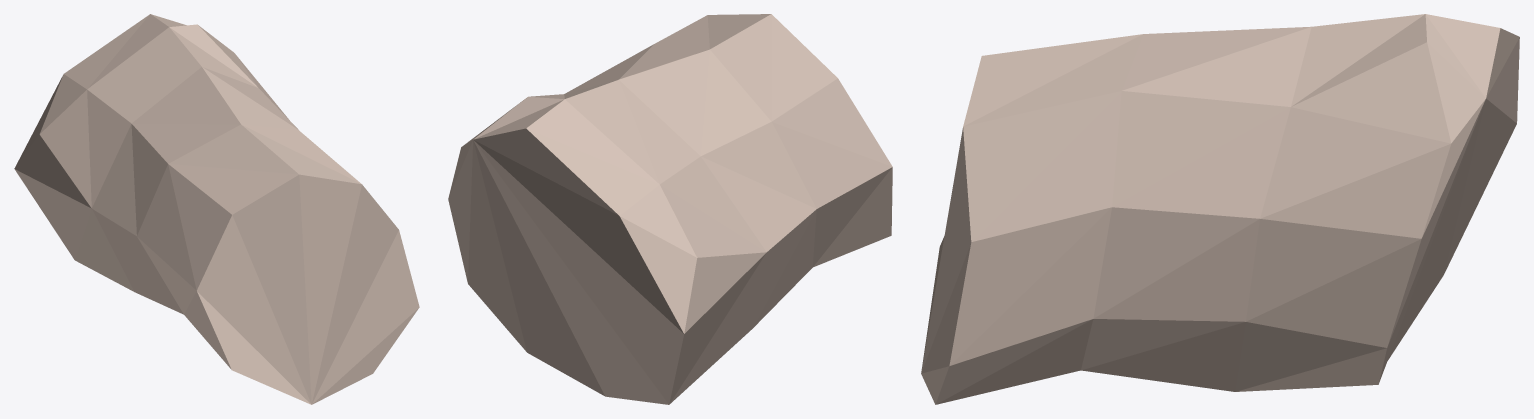
The model's file is RBaby2ndPhalange.dae.
The picture shows the model from 3 angles, left to right: view 1: azimuth 30°, elevation 25°; view 2: azimuth 150°, elevation 25°; view 3: azimuth 270°, elevation 25°; orthographic projection. The views are drawn at different scales.
Parts seen in each view (by area): view 1: ShapeIndexedFaceSet; view 2: ShapeIndexedFaceSet; view 3: ShapeIndexedFaceSet.
Boxes of the visible parts, left/top/right/bottom form: ShapeIndexedFaceSet: left=14, top=14, right=419, bottom=404; ShapeIndexedFaceSet: left=448, top=14, right=892, bottom=404; ShapeIndexedFaceSet: left=921, top=14, right=1519, bottom=404.
Size of the model in its own units: 0.0152 by 0.0238 by 0.0166.
